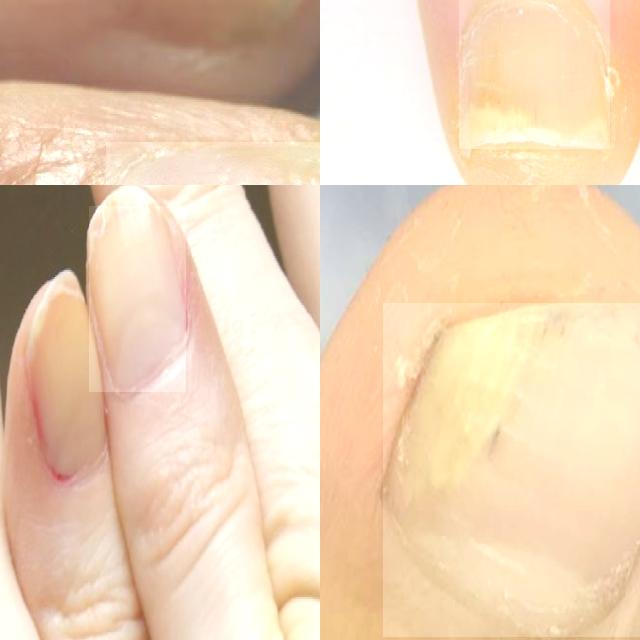diabetes: (383, 303, 640, 637), (460, 0, 610, 149)
sehat: (90, 206, 186, 392), (30, 291, 107, 478)
